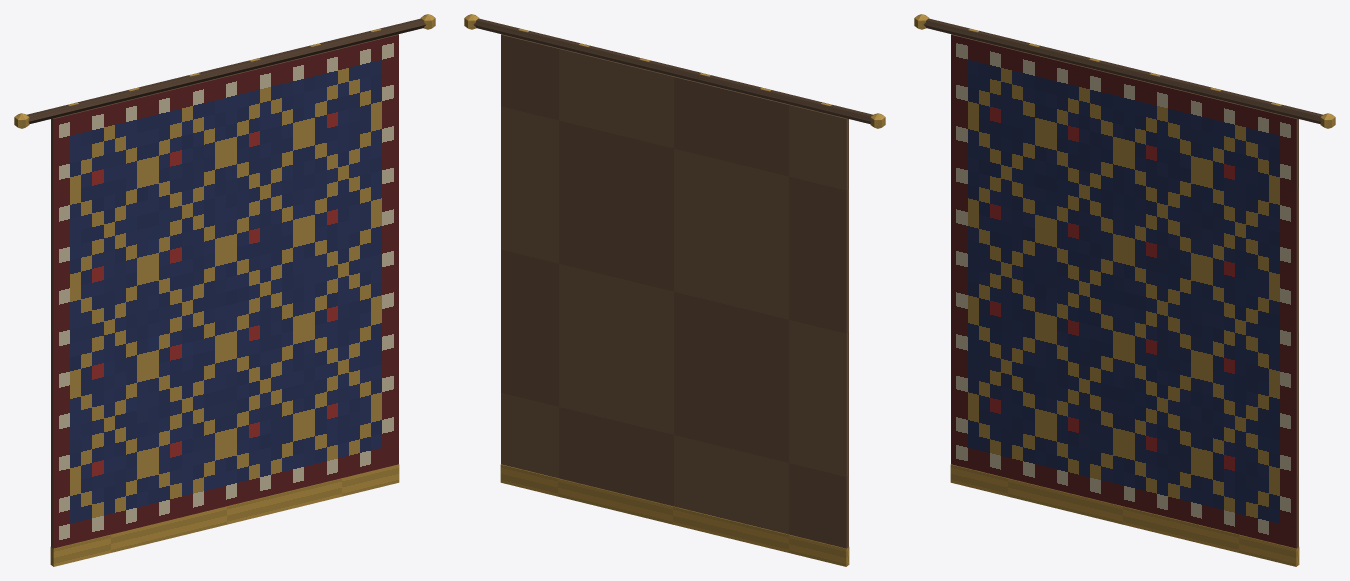
File: tapestry-b.glb
3 renders of one model, left to right at view 1: azimuth 30°, elevation 25°; view 2: azimuth 150°, elevation 25°; view 3: azimuth 330°, elevation 25°, orthographic.
Parts seen in each view (by area): view 1: tapestry-b.001; view 2: tapestry-b.001; view 3: tapestry-b.001.
Part boxes in pixels (left/top/right/bottom): tapestry-b.001: left=14, top=14, right=435, bottom=566; tapestry-b.001: left=464, top=14, right=885, bottom=566; tapestry-b.001: left=914, top=14, right=1335, bottom=566.
Bounding box in the file's own units: 1.93 × 2.04 × 0.0606.
1 material, 1 textured.
